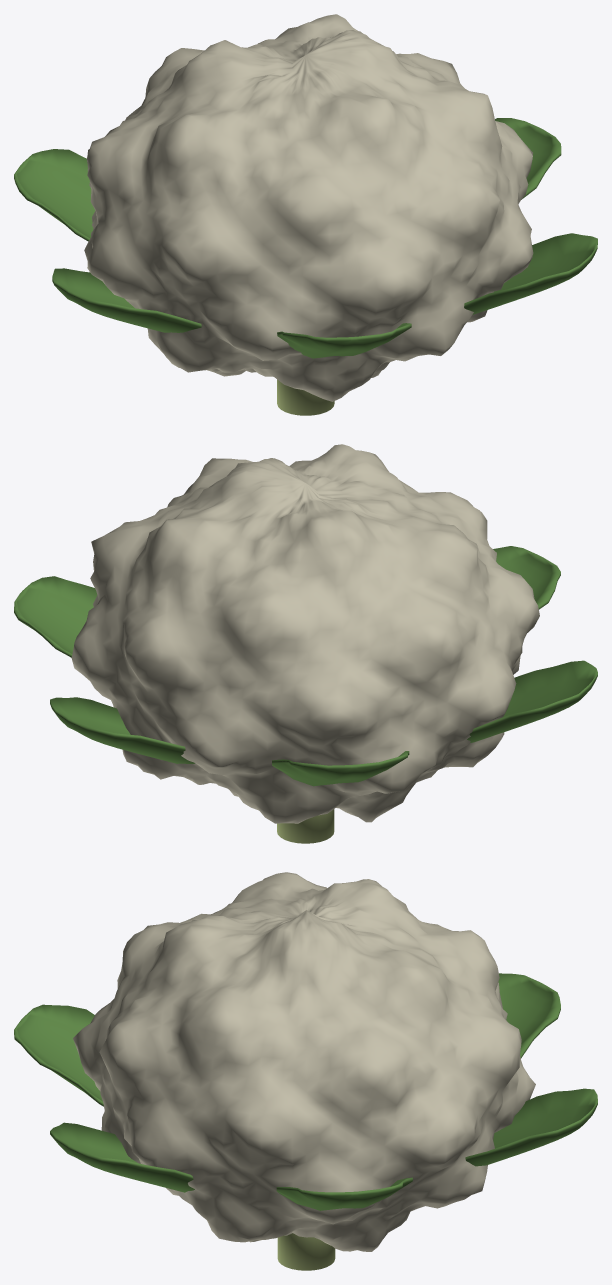
3 views of the same model, one above another, from view 1: azimuth 30°, elevation 25°; view 2: azimuth 150°, elevation 25°; view 3: azimuth 270°, elevation 25° (orthographic).
Parts seen in each view (by area): view 1: Continuous compact curd with irregular granular lobes, Cupping outer leaf 3, Cupping outer leaf 6, Cupping outer leaf 4, Cupping outer leaf 5, Cupping outer leaf 1, Cut central stalk; view 2: Continuous compact curd with irregular granular lobes, Cupping outer leaf 4, Cupping outer leaf 1, Cupping outer leaf 2, Cupping outer leaf 3, Cupping outer leaf 5, Cut central stalk; view 3: Continuous compact curd with irregular granular lobes, Cupping outer leaf 2, Cupping outer leaf 5, Cupping outer leaf 6, Cupping outer leaf 3, Cupping outer leaf 1, Cut central stalk.
Boxes of the visible parts, <box> form: Continuous compact curd with irregular granular lobes: <box>84,14,533,401</box>; Cupping outer leaf 3: <box>14,149,95,241</box>; Cupping outer leaf 6: <box>464,233,597,314</box>; Cupping outer leaf 4: <box>52,268,201,332</box>; Cupping outer leaf 5: <box>277,323,411,358</box>; Cupping outer leaf 1: <box>495,118,561,199</box>; Cut central stalk: <box>277,379,334,415</box>; Continuous compact curd with irregular granular lobes: <box>71,444,539,823</box>; Cupping outer leaf 4: <box>467,660,597,742</box>; Cupping outer leaf 1: <box>14,576,97,657</box>; Cupping outer leaf 2: <box>50,697,195,763</box>; Cupping outer leaf 3: <box>272,751,409,786</box>; Cupping outer leaf 5: <box>493,546,560,609</box>; Cut central stalk: <box>277,809,334,843</box>; Continuous compact curd with irregular granular lobes: <box>73,872,535,1251</box>; Cupping outer leaf 2: <box>465,1088,597,1166</box>; Cupping outer leaf 5: <box>14,1004,103,1106</box>; Cupping outer leaf 6: <box>50,1122,194,1192</box>; Cupping outer leaf 3: <box>498,973,560,1058</box>; Cupping outer leaf 1: <box>276,1177,412,1210</box>; Cut central stalk: <box>277,1233,335,1270</box>.
Size of the model in its own units: 0.2945 by 0.1908 by 0.2839.
